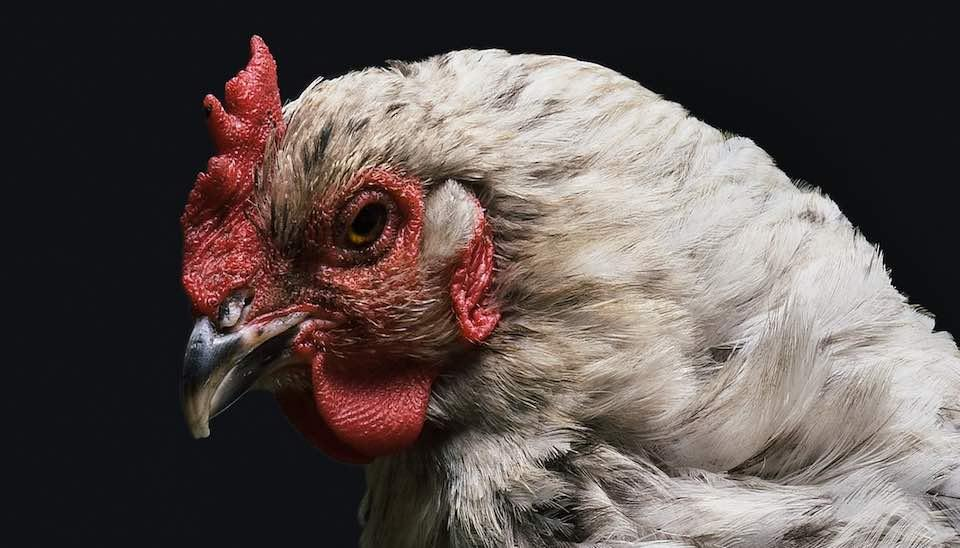AbNormal: (181, 33, 279, 313)
